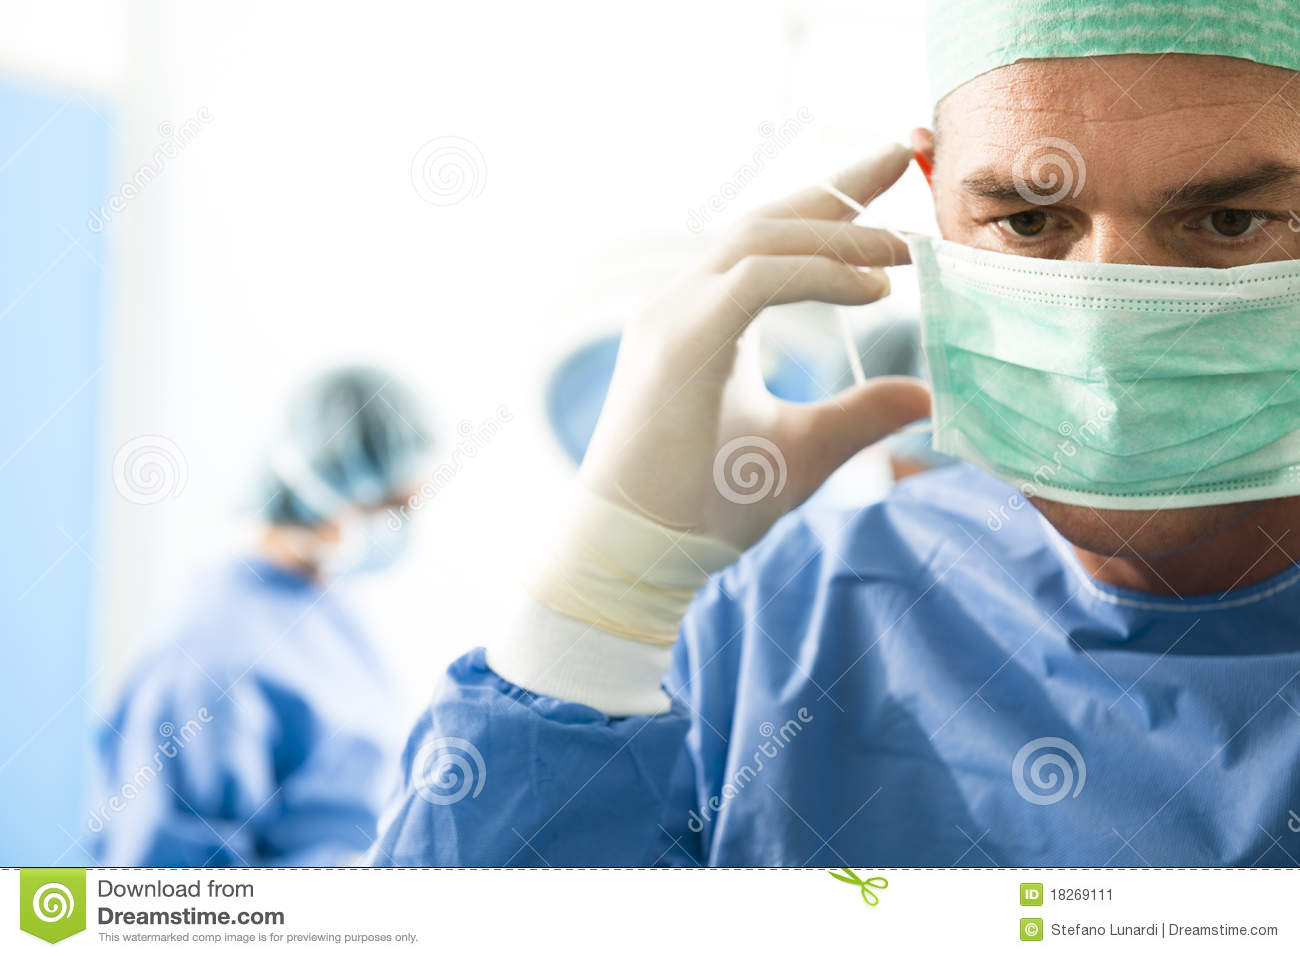mask: (910, 244, 1300, 518)
